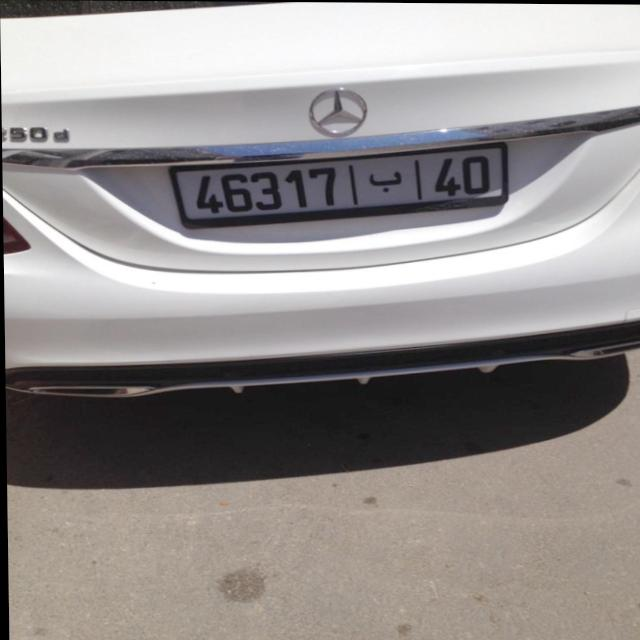License-Plate: (170, 142, 507, 227)
